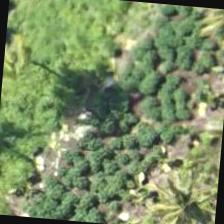Kelapa_Sawit: (140, 163, 220, 223)
